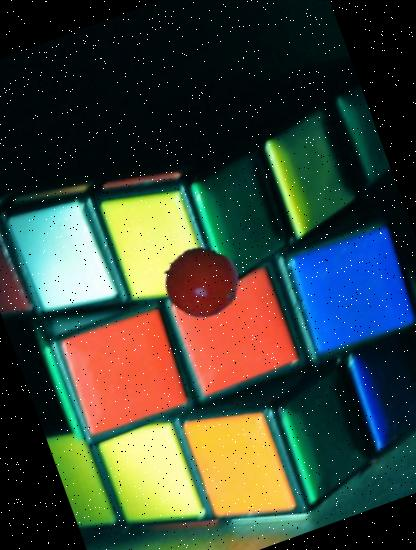Pomegranate: (150, 231, 250, 331)
